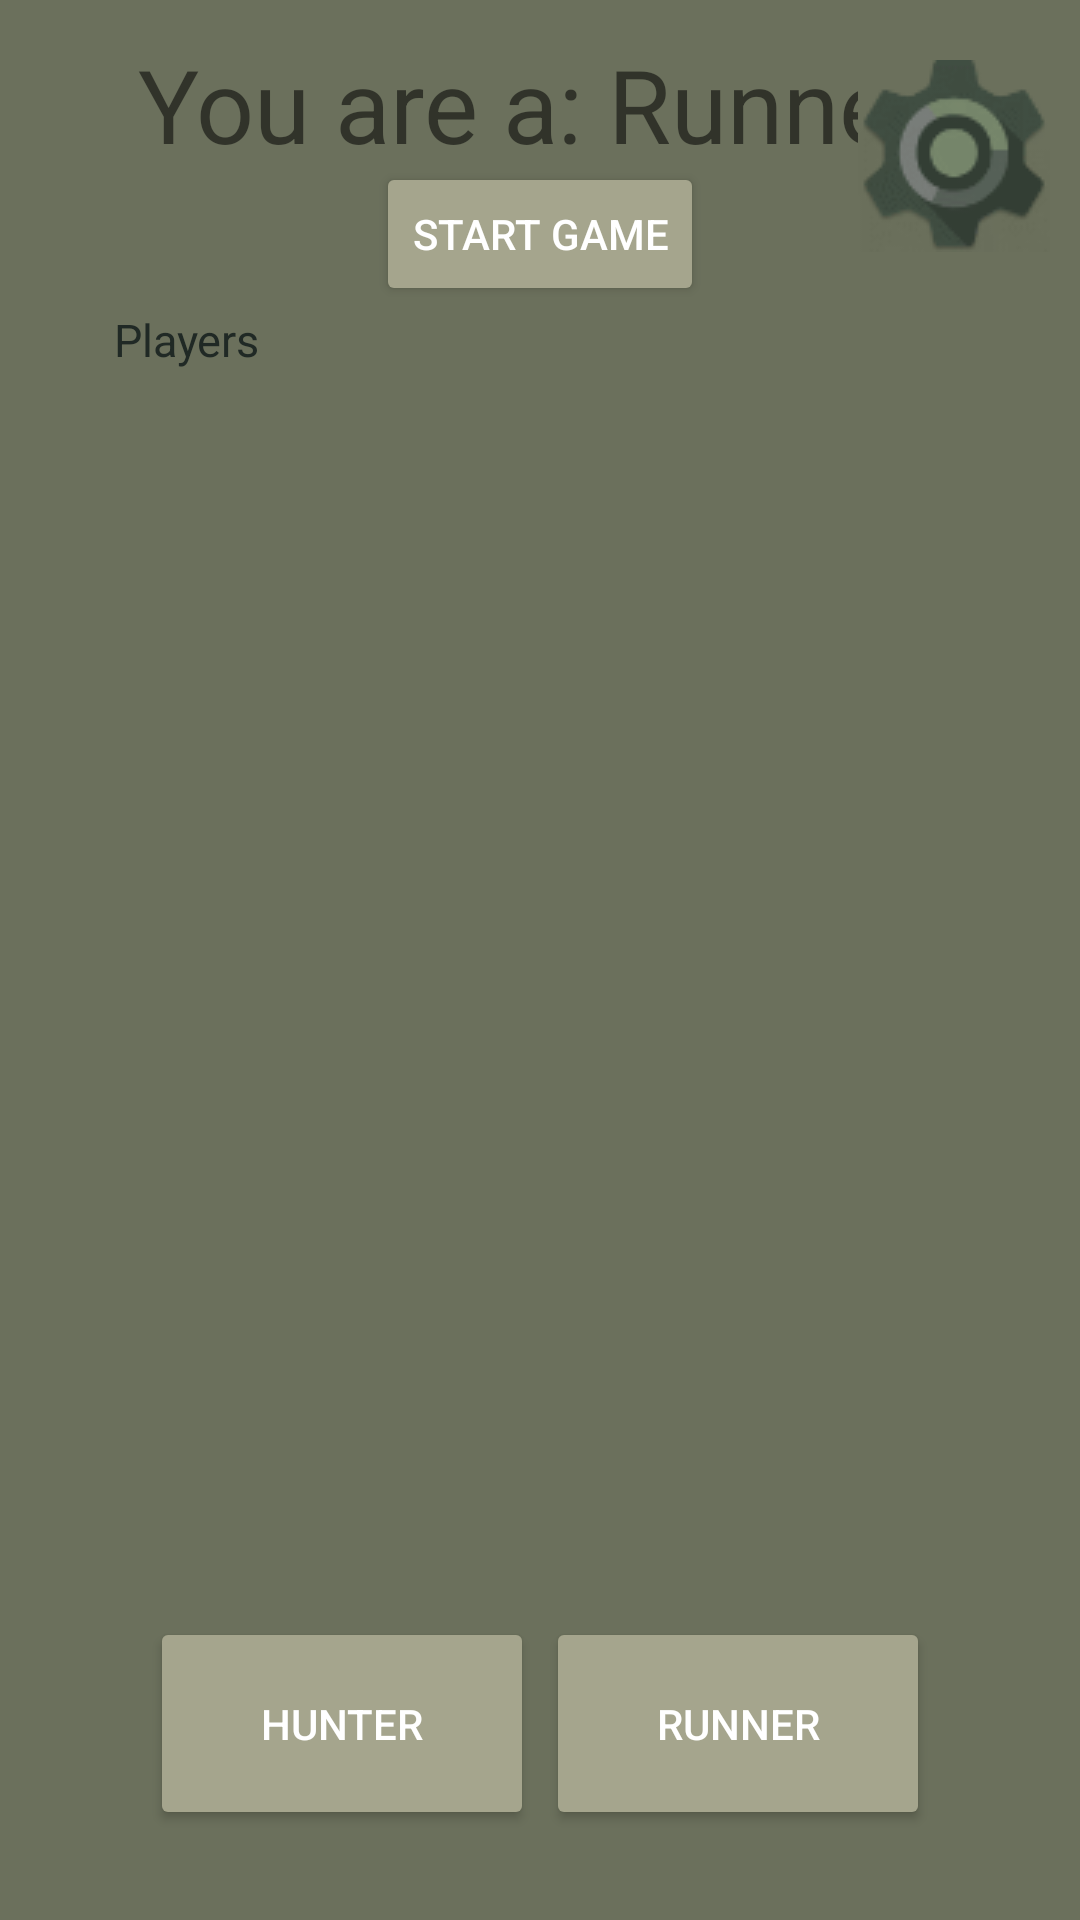

Point at icon controls on the screen. Image size 1080w x 1920h, points as [x,y].
settings: [954,153]
